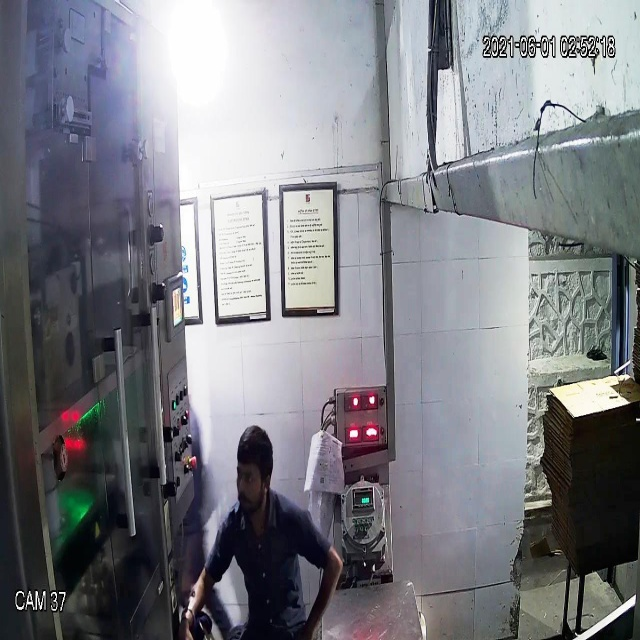Sin_gafas: (230, 458, 273, 493)
